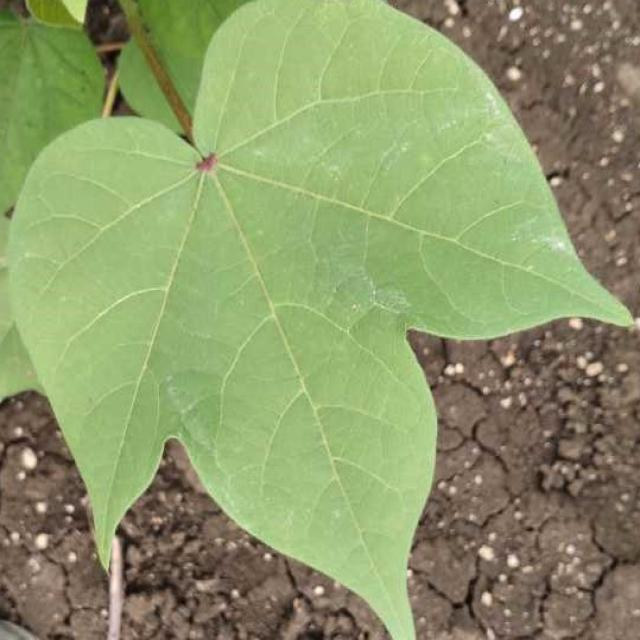Healthy Leaf: (13, 30, 640, 640)
